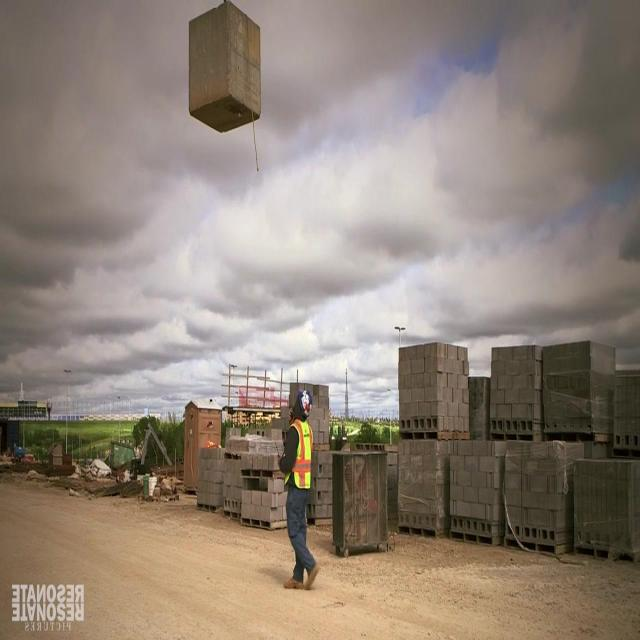Reflective-Jacket: (278, 417, 318, 497)
Safety-Helmet: (294, 387, 316, 414)
